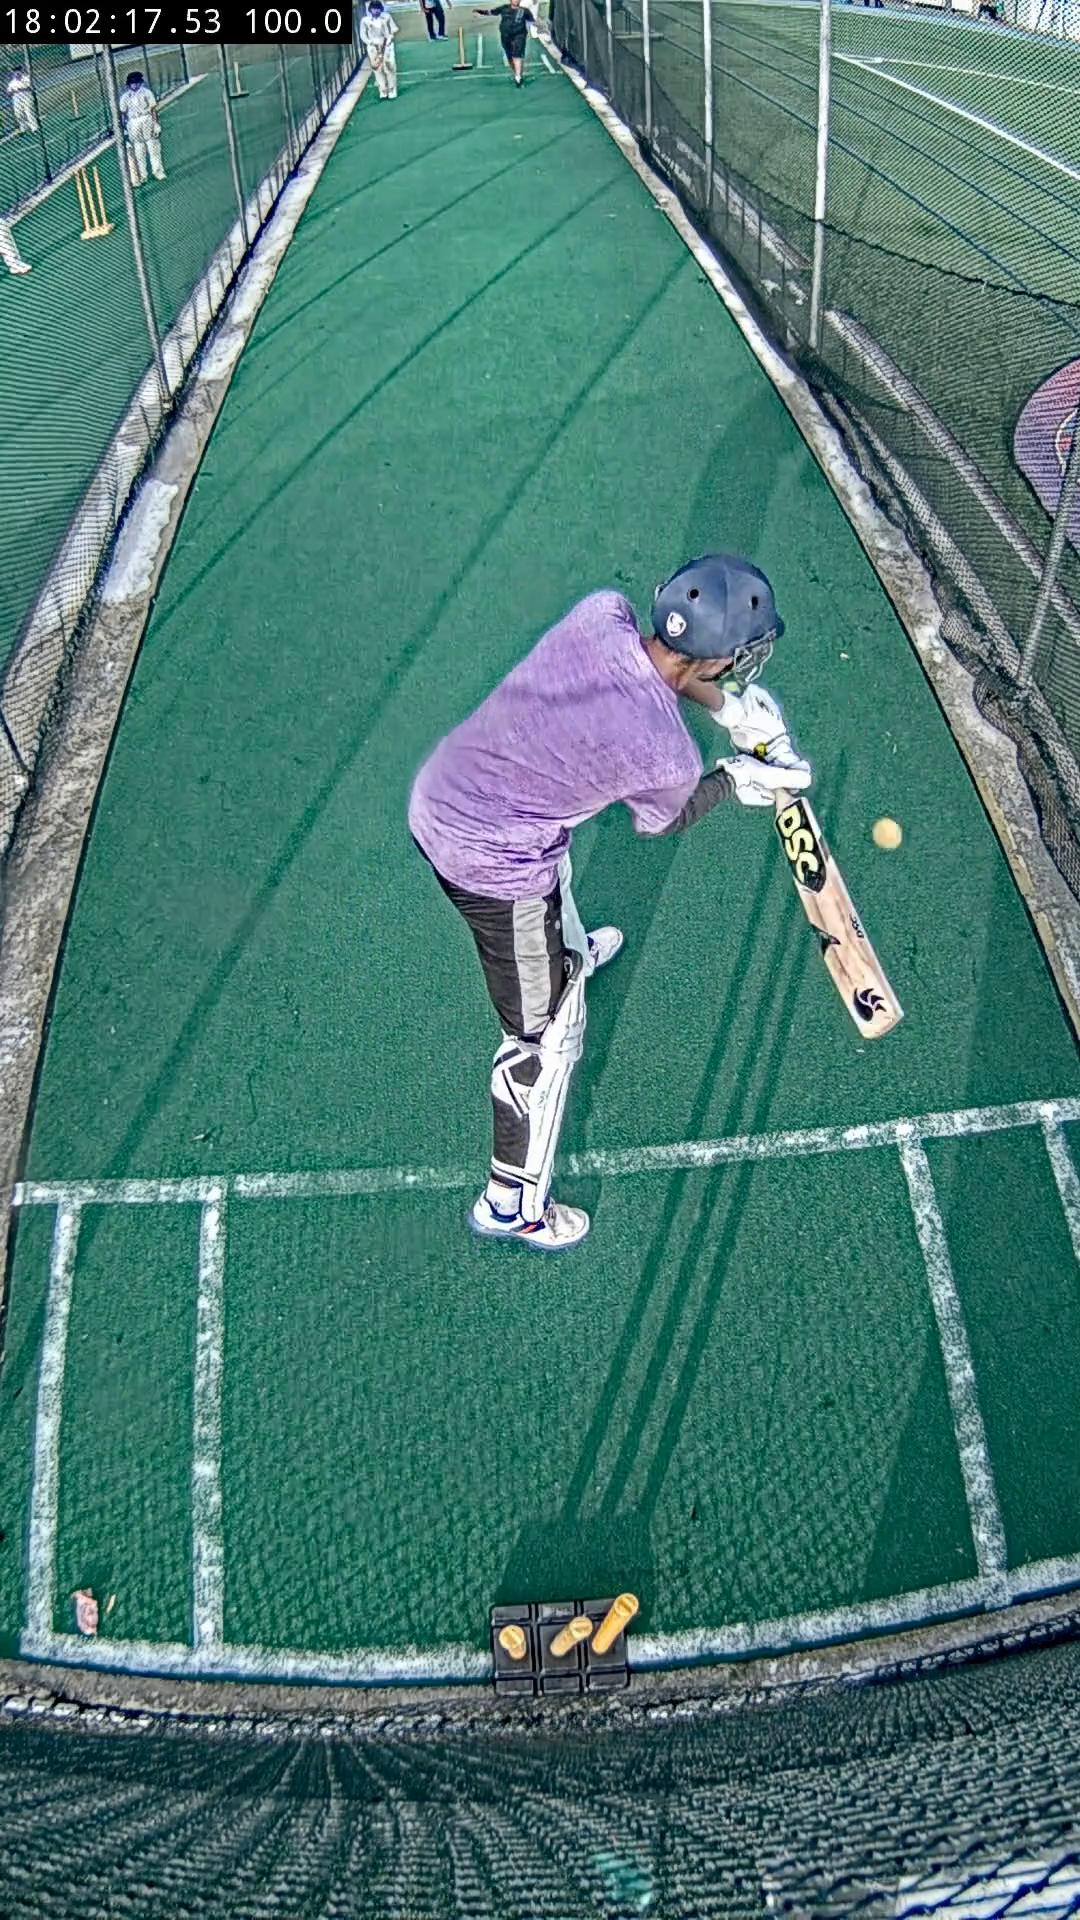ball: (870, 818, 903, 852)
bat: (777, 791, 903, 1039)
gloves: (712, 683, 810, 806)
helmet: (653, 555, 783, 659)
pads: (498, 960, 588, 1222)
stumps: (492, 1594, 637, 1693)
